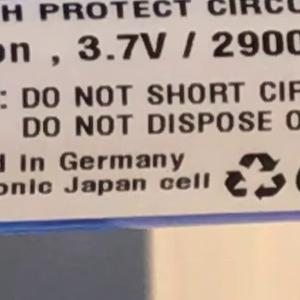3.7V: (68, 22, 171, 71)
